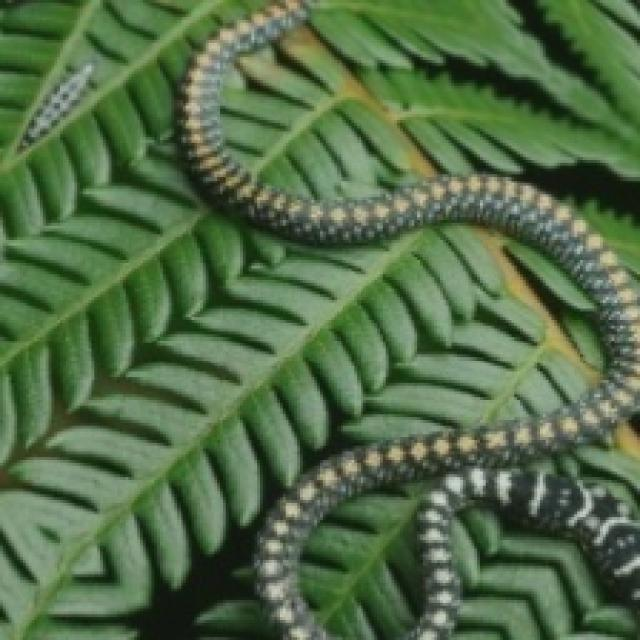paradise tree snake: (177, 0, 637, 637), (349, 3, 566, 103)
